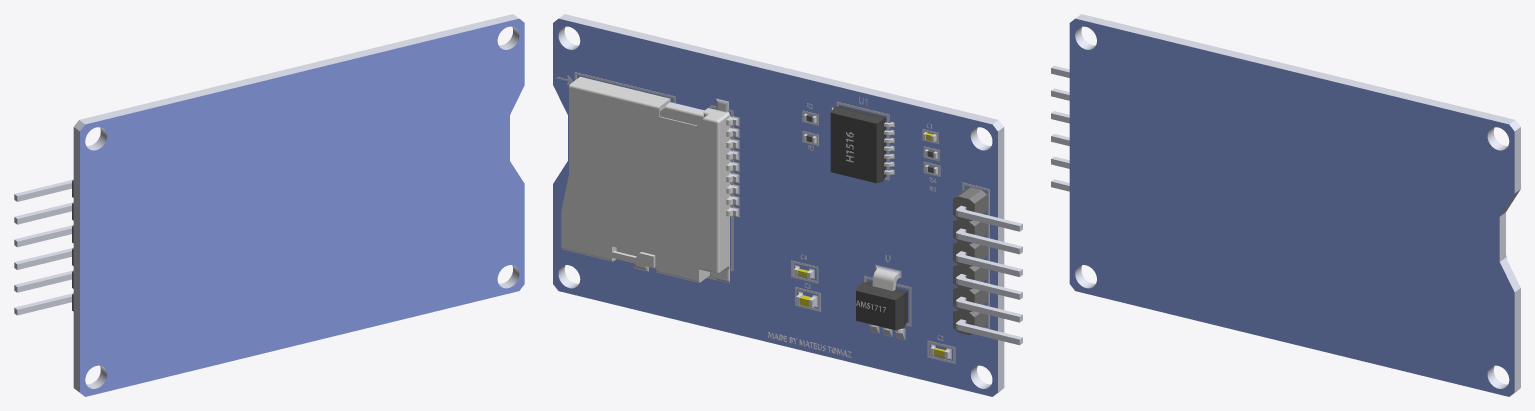
Rendered from micro_SD.glb.
The picture shows the model from 3 angles, left to right: view 1: azimuth 30°, elevation 25°; view 2: azimuth 150°, elevation 25°; view 3: azimuth 330°, elevation 25°; orthographic projection.
Visible parts, largest first — view 1: Node2, Node3, Node1; view 2: Node2, Node4, Node1, Node6, Node3, Node9, Node5, Node7; view 3: Node2, Node3, Node1.
Part boxes in pixels (x1=…): Node2: x1=80, y1=18, x2=524, y2=396; Node3: x1=73, y1=14, x2=518, y2=394; Node1: x1=14, y1=26, x2=519, y2=388; Node2: x1=553, y1=18, x2=997, y2=396; Node4: x1=561, y1=76, x2=736, y2=282; Node1: x1=556, y1=26, x2=1022, y2=388; Node6: x1=830, y1=106, x2=907, y2=330; Node3: x1=559, y1=14, x2=1004, y2=395; Node9: x1=953, y1=187, x2=986, y2=335; Node5: x1=768, y1=97, x2=890, y2=357; Node7: x1=832, y1=109, x2=902, y2=333; Node2: x1=1069, y1=18, x2=1514, y2=396; Node3: x1=1075, y1=14, x2=1520, y2=394; Node1: x1=1051, y1=27, x2=1520, y2=388.
Size of the model in its own units: 44.75 by 24 by 4.
